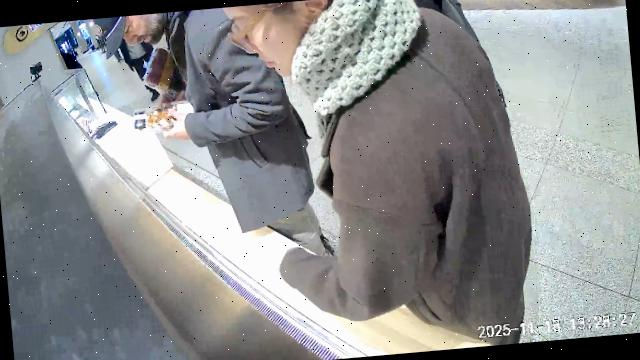sushi-box: (132, 100, 194, 134)
